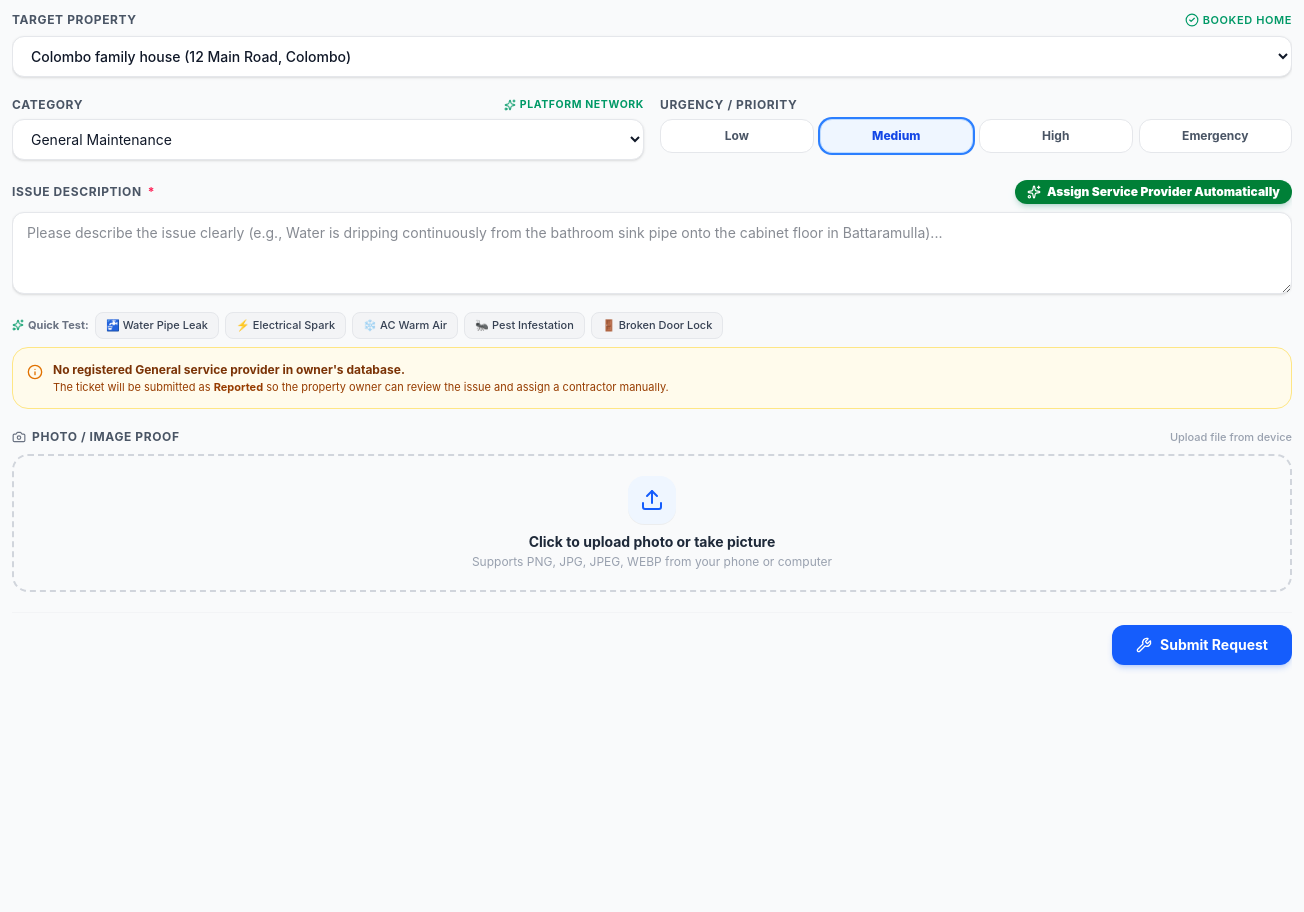
WEB-17 invalid description abcd blocks maintenance submission
Replace the text in the text box named "description" with "abcd" at (652, 253), box x1=12 y1=212 x2=1292 y2=294
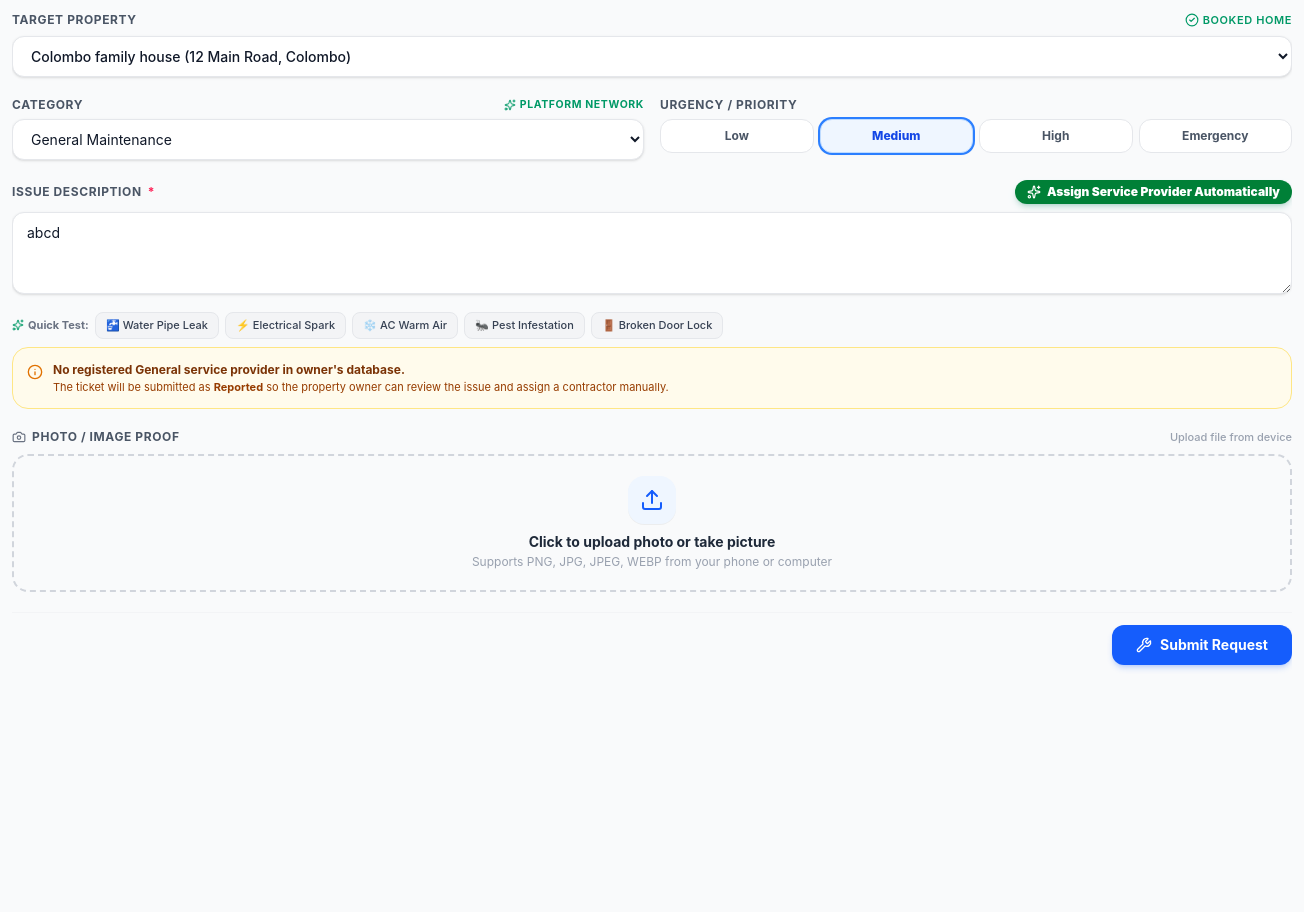
Submit the form
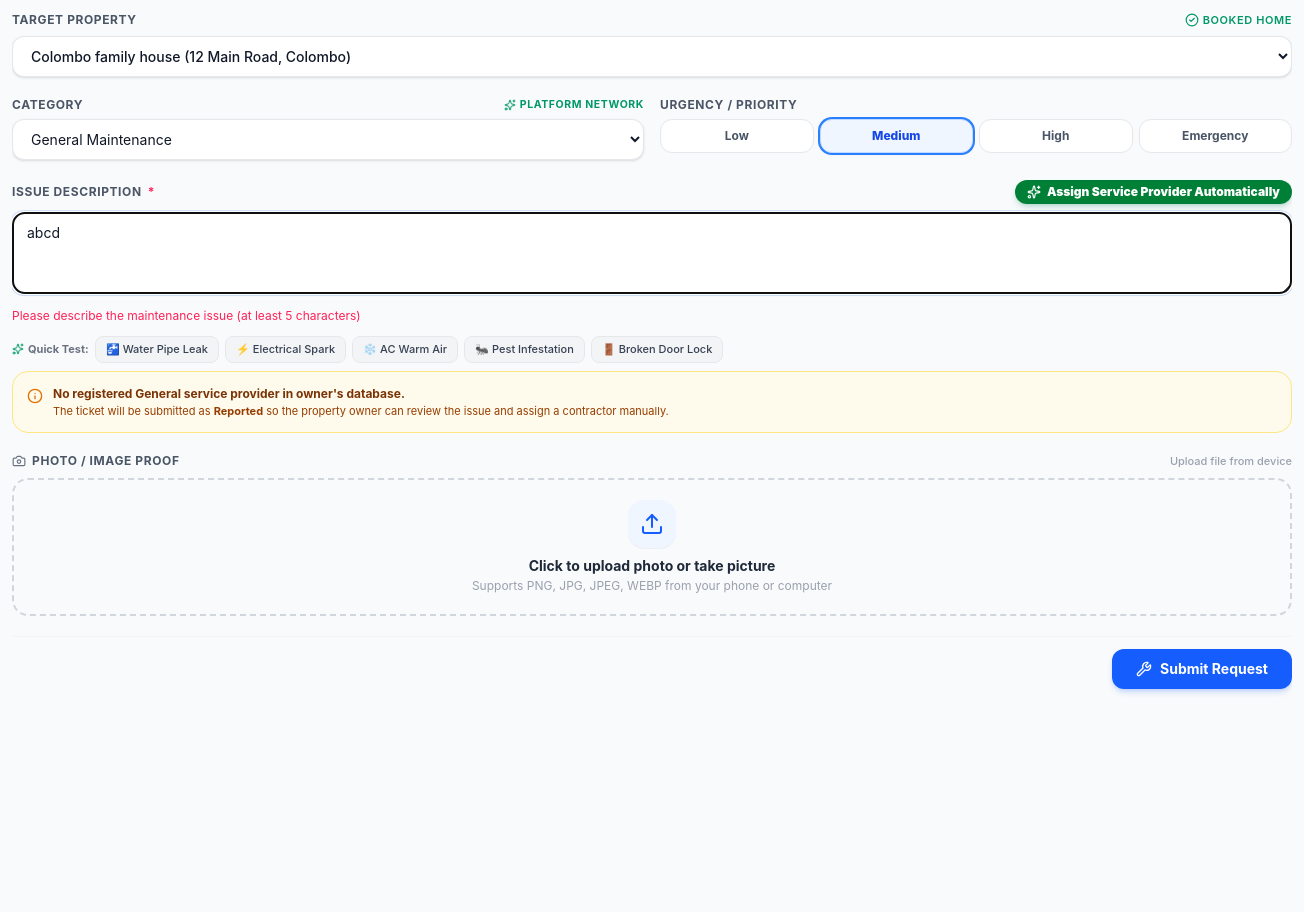
Result: the text "Please describe the maintenance issue (at least 5 characters)" is shown at x1=12 y1=308 x2=361 y2=323
